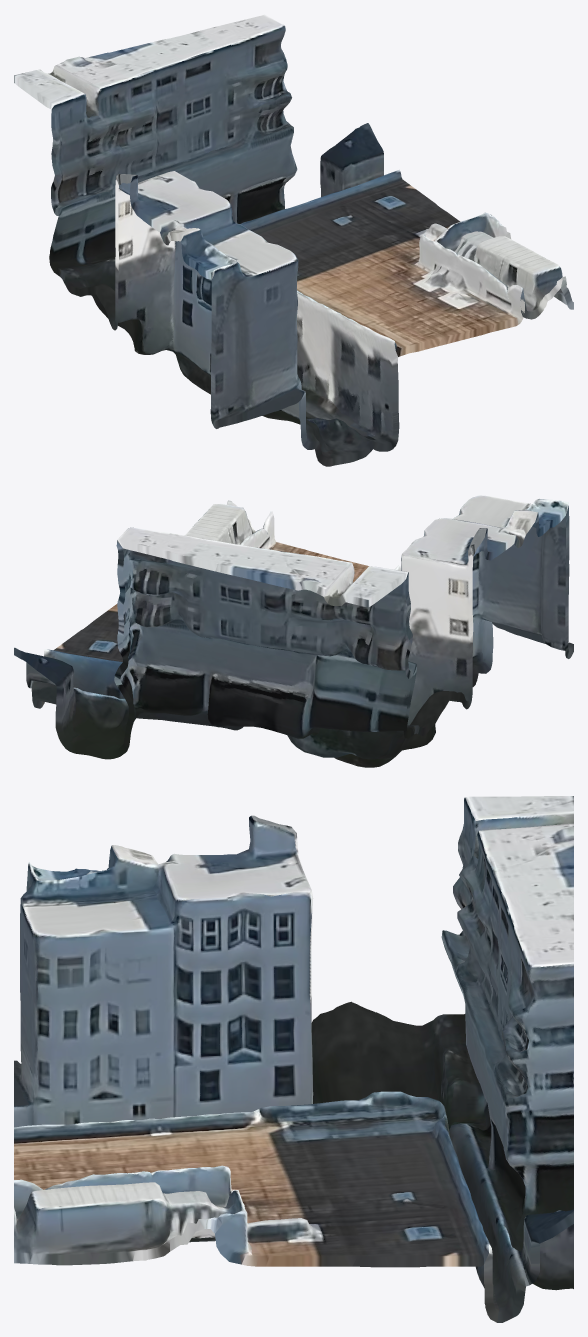
The model's file is z20-167723-405197-h0-yup-uvflip-v3-world.glb.
The picture shows the model from 3 angles, top to bottom: view 1: azimuth 30°, elevation 25°; view 2: azimuth 150°, elevation 25°; view 3: azimuth 270°, elevation 25°; orthographic projection. The views are drawn at different scales.
Size of the model in its own units: 30.16 by 22.08 by 30.32.
1 material, 1 textured.
